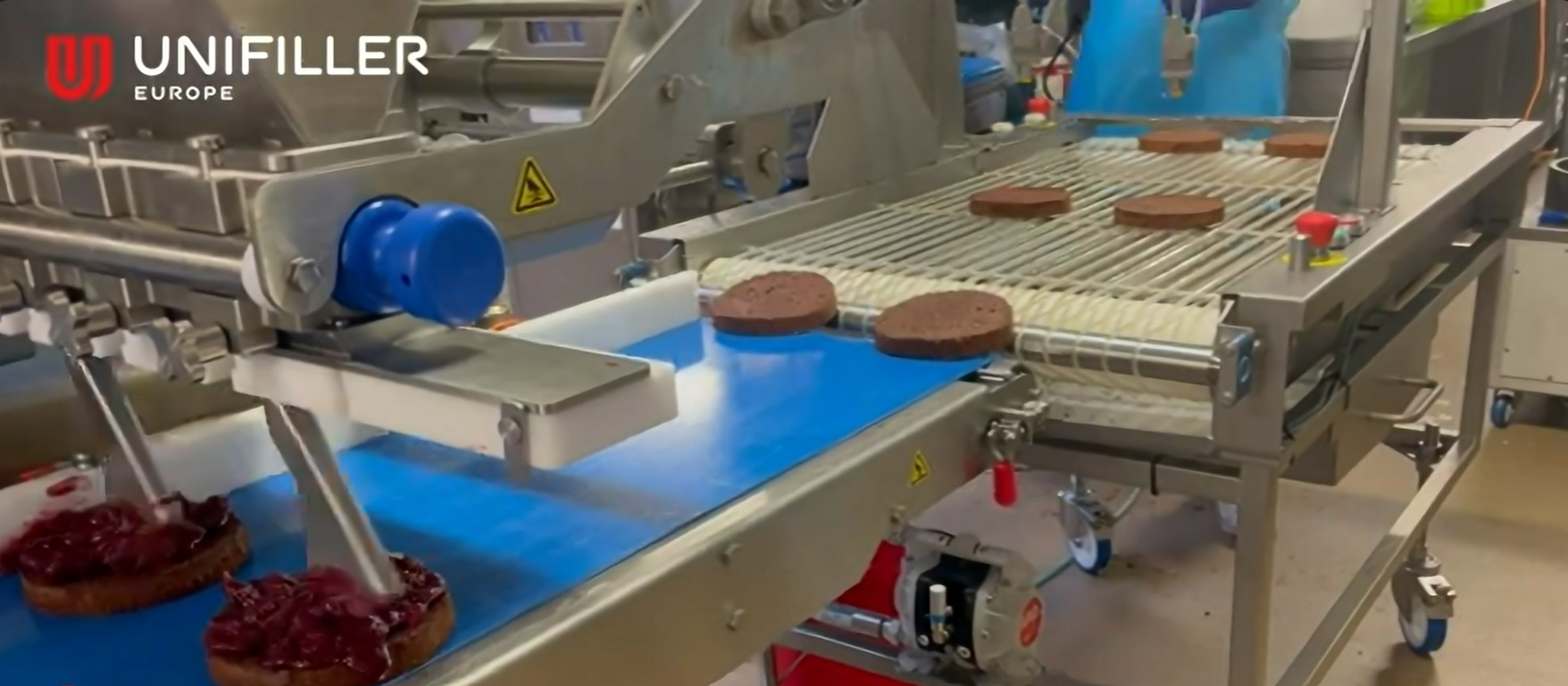Chocolate Cake: (874, 290, 1015, 359), (711, 272, 836, 332), (1112, 195, 1227, 227), (970, 189, 1070, 216), (1139, 129, 1222, 152), (1265, 134, 1329, 155)
Jam Coated: (207, 553, 457, 686), (18, 493, 249, 615)
